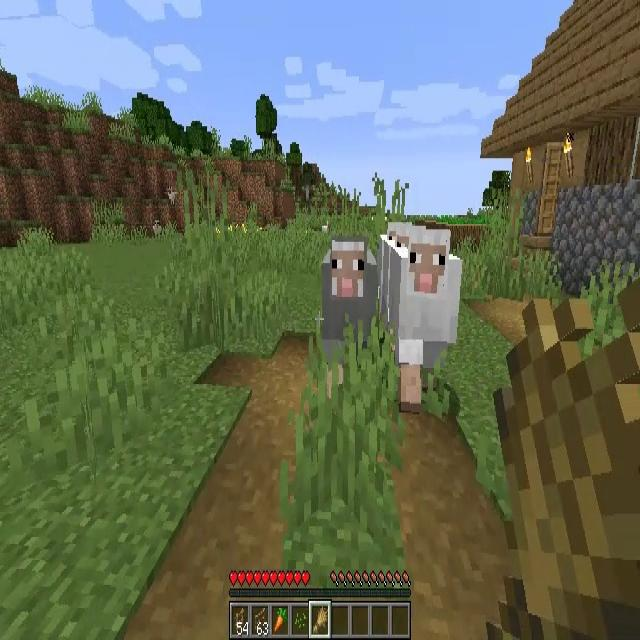sheep: (385, 223, 459, 415), (322, 237, 379, 385)
